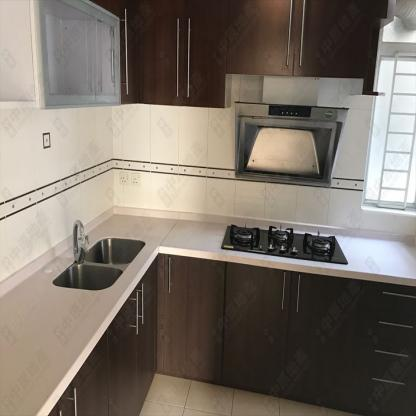Cupboard: (46, 255, 416, 415), (30, 0, 388, 109)
Exhaust Hood: (231, 74, 349, 186)
Faucet: (73, 220, 87, 261)
Sink: (53, 237, 145, 291)
Stove: (219, 221, 349, 266)
